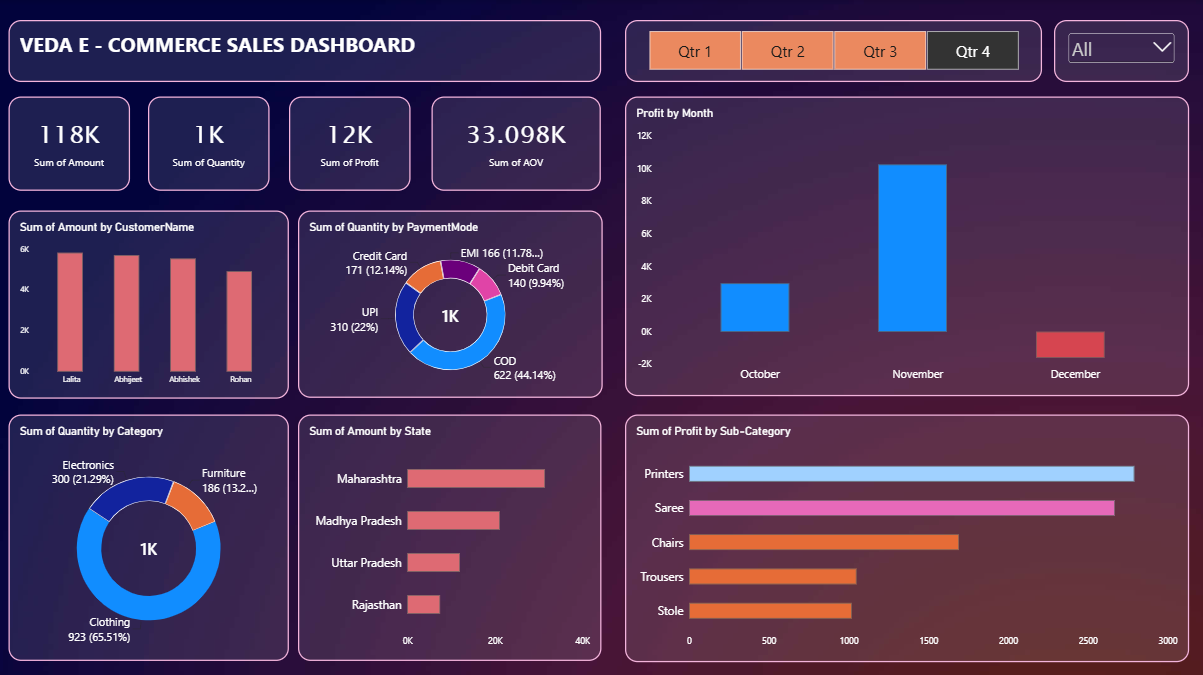

What the dashboard file says about the page in this screenshot:
{"tool":"powerbi","page":{"name":"Page 1","canvas":[1920,1080],"ordinal":0},"visuals":[{"type":"textbox","box":[16.9,33.9,942.6,98.8],"z":0},{"type":"columnChart","title":"Profit by Month","fields":{"Category":["Orders.Order Date.Variation.Date Hierarchy.Month"],"Y":["Sum(Details.Profit)"]},"box":[996.2,155.2,897.4,476.9],"z":1000},{"type":"barChart","fields":{"Category":["Details.Sub-Category"],"Y":["Sum(Details.Profit)"]},"box":[997.3,660.9,897.1,393.7],"z":2000},{"type":"donutChart","fields":{"Category":["Details.Category"],"Y":["Sum(Details.Quantity)"]},"box":[16.9,660.4,445.9,392.3],"z":3000},{"type":"donutChart","fields":{"Category":["Details.PaymentMode"],"Y":["Sum(Details.Quantity)"]},"box":[476.9,335.8,484.3,298.2],"z":4000},{"type":"cardVisual","fields":{"Data":["Sum(Details.Amount)"]},"box":[16.7,155.1,193.3,150.3],"z":5000},{"type":"cardVisual","fields":{"Data":["Sum(Details.Quantity)"]},"box":[238.6,155.1,193.3,150.3],"z":6000},{"type":"cardVisual","fields":{"Data":["Sum(Details.Profit)"]},"box":[462.9,155.1,193.3,150.3],"z":7000},{"type":"cardVisual","fields":{"Data":["Sum(Details.AOV)"]},"box":[689.5,155.1,269.6,150.3],"z":8000},{"type":"barChart","fields":{"Category":["Orders.State"],"Y":["Sum(Details.Amount)"]},"box":[476.9,660.4,482.6,392.3],"z":9000},{"type":"columnChart","fields":{"Category":["Orders.CustomerName"],"Y":["Sum(Details.Amount)"]},"box":[16.9,335.8,445.9,299.1],"z":10000},{"type":"slicer","fields":{"Values":["Orders.Order Date.Variation.Date Hierarchy.Quarter"]},"box":[996.2,33.9,663.2,98.8],"z":11000},{"type":"slicer","fields":{"Values":["Orders.State"]},"box":[1679.2,33.9,214.5,98.8],"z":12000}]}

Visuals, with their boxes in screenshot pixels (x1, y1, x2, y2), scaled from the page's 1920x1080 canvas onto the 1203x675 screenshot:
textbox: <region>11, 21, 601, 83</region>
"Profit by Month" columnChart: <region>624, 97, 1186, 395</region>
barChart - Details.Sub-Category x Sum(Details.Profit): <region>625, 413, 1187, 659</region>
donutChart - Details.Category x Sum(Details.Quantity): <region>11, 413, 290, 658</region>
donutChart - Details.PaymentMode x Sum(Details.Quantity): <region>299, 210, 602, 396</region>
cardVisual - Sum(Details.Amount): <region>10, 97, 132, 191</region>
cardVisual - Sum(Details.Quantity): <region>149, 97, 271, 191</region>
cardVisual - Sum(Details.Profit): <region>290, 97, 411, 191</region>
cardVisual - Sum(Details.AOV): <region>432, 97, 601, 191</region>
barChart - Orders.State x Sum(Details.Amount): <region>299, 413, 601, 658</region>
columnChart - Orders.CustomerName x Sum(Details.Amount): <region>11, 210, 290, 397</region>
slicer - Orders.Order Date.Variation.Date Hierarchy.Quarter: <region>624, 21, 1040, 83</region>
slicer - Orders.State: <region>1052, 21, 1187, 83</region>
